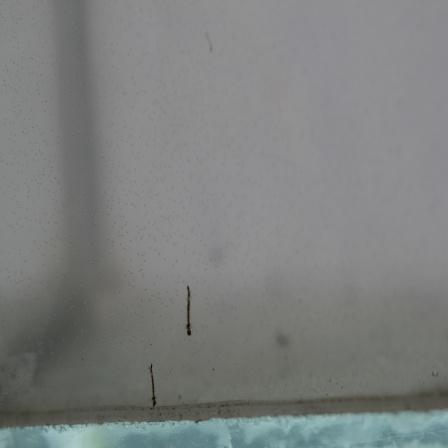Jentik-Nyamuk: (179, 282, 200, 341), (142, 358, 163, 411)
